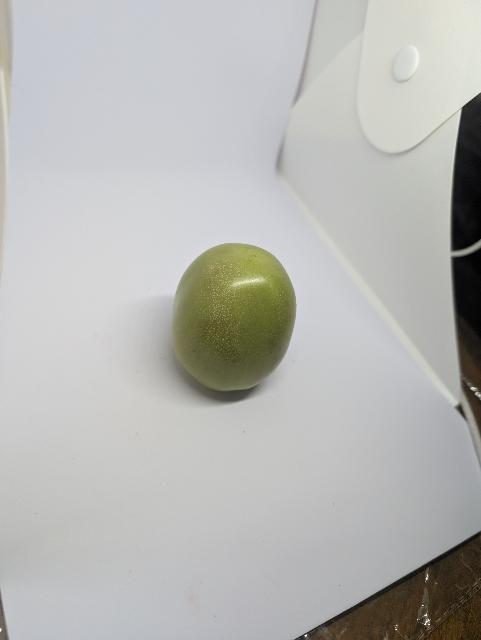green: (164, 240, 300, 405)
